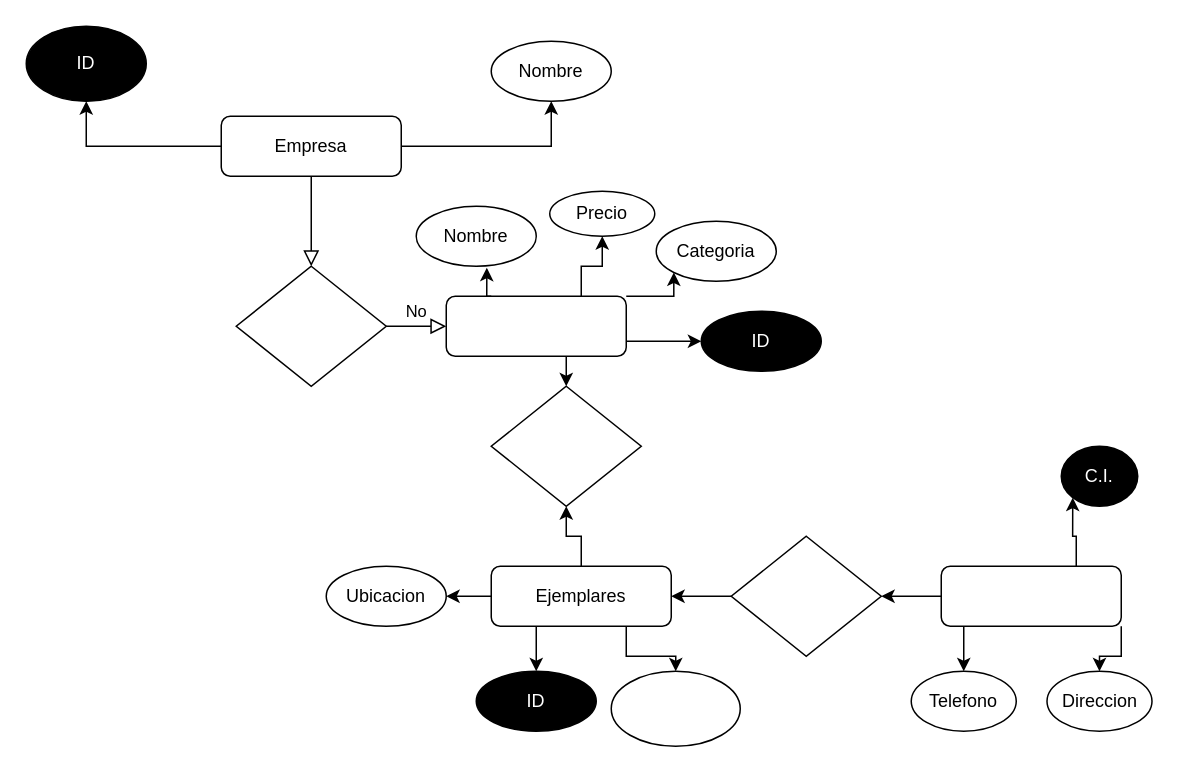
Image size: 1179x773. Some labels were removed from this diagram. The centre of each missing label's shape, as x and y in pixels:
Cliente: the point at 1030,595
Compra: the point at 805,595
Desarrolla: the point at 310,325
Juegos: the point at 535,325
Metodo de pago: the point at 675,708
Tiene: the point at 565,445
